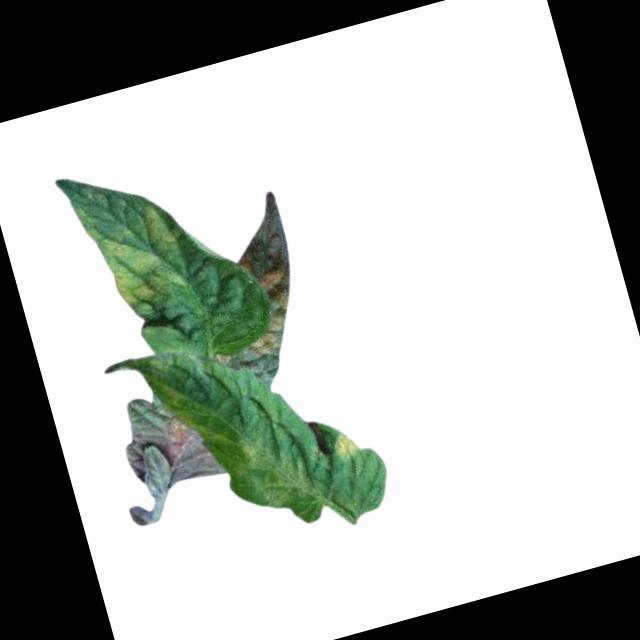Leaf_Mold: (80, 192, 195, 321), (114, 382, 227, 498), (223, 192, 308, 332), (213, 325, 305, 399), (330, 426, 361, 463)
